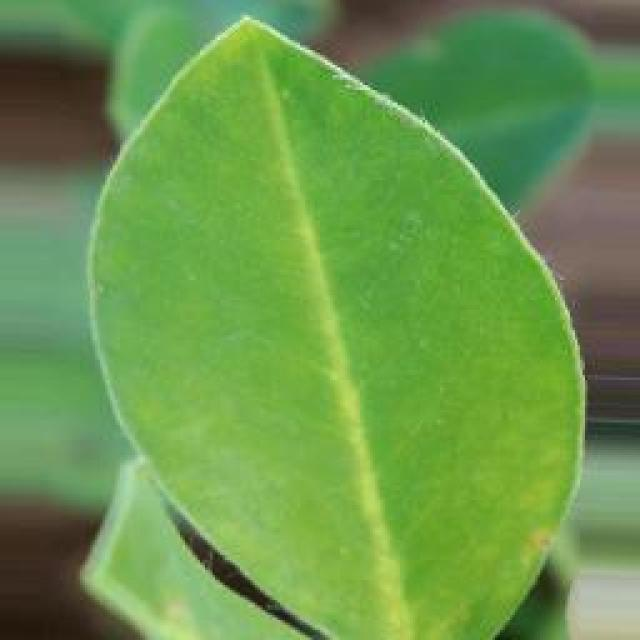Yellow_and_black_sigatoka: (81, 14, 593, 640)
